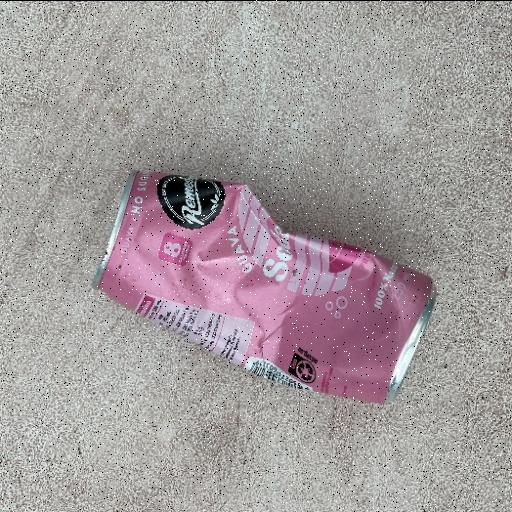Metal: (91, 168, 438, 406)
